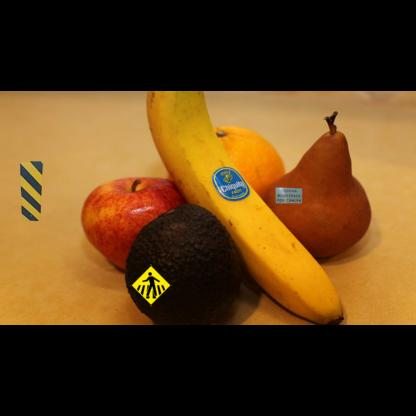A-32b: (130, 265, 172, 306)
I-E: (276, 187, 302, 203)
O-MP: (20, 161, 43, 221)
